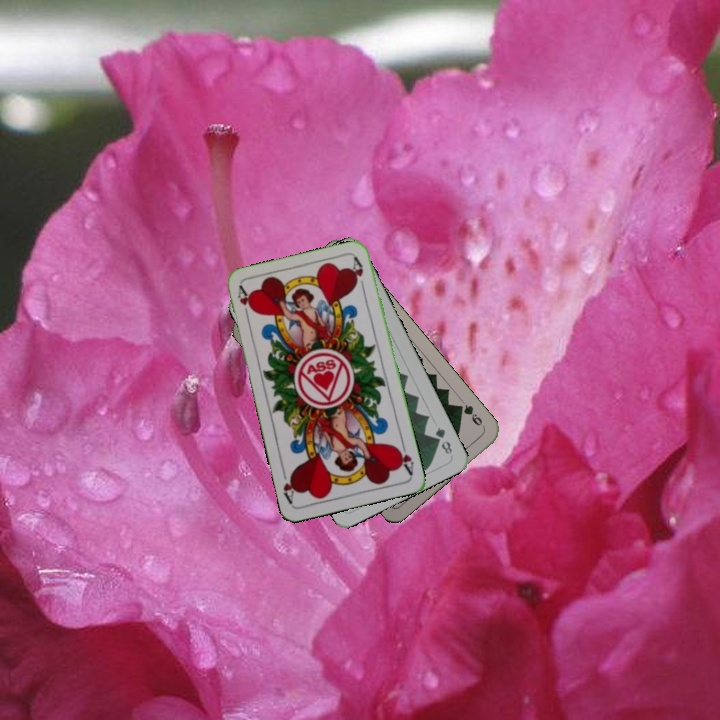G8: (431, 423, 455, 457)
G9: (454, 400, 488, 431)
HA: (392, 437, 416, 477), (234, 282, 256, 323)
